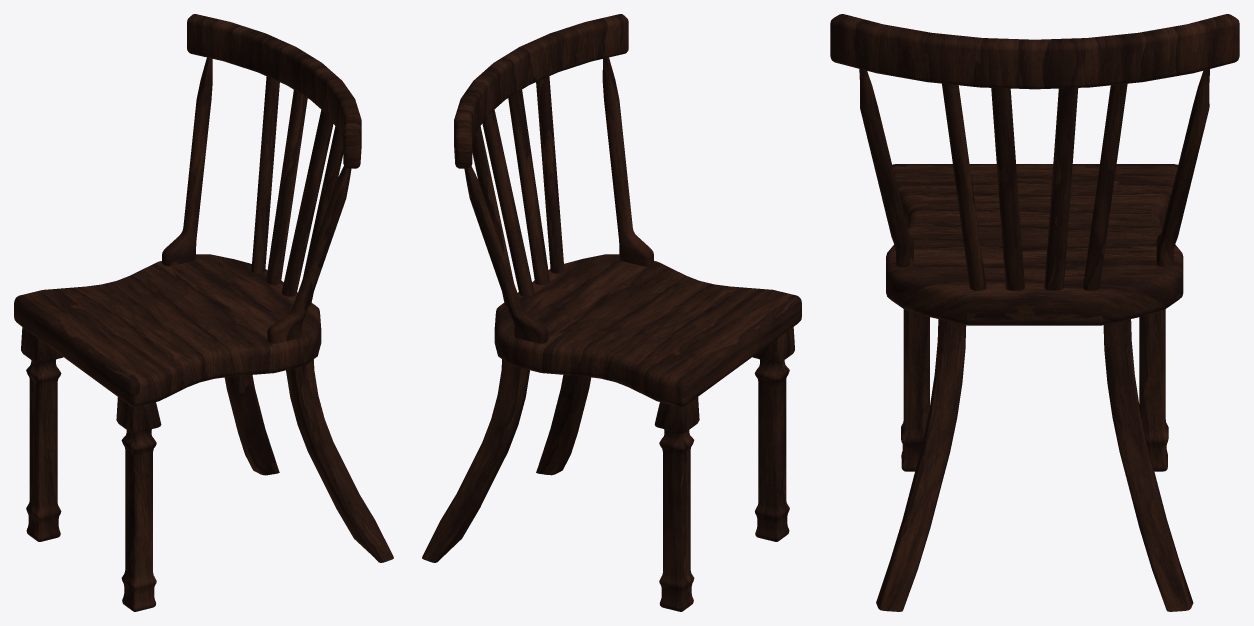
Rendered from 16_Stuhl.fbx.
3 views of the same model, side by side, from view 1: azimuth 30°, elevation 25°; view 2: azimuth 150°, elevation 25°; view 3: azimuth 270°, elevation 25° (orthographic). The views are drawn at different scales.
Visible parts, largest first — view 1: Stuhl; view 2: Stuhl; view 3: Stuhl.
Part boxes in pixels (<box>): Stuhl: <box>14,14,393,611</box>; Stuhl: <box>422,14,801,611</box>; Stuhl: <box>830,14,1239,611</box>.
Size of the model in its own units: 64.33 by 106 by 70.3.
1 material, 1 textured.
